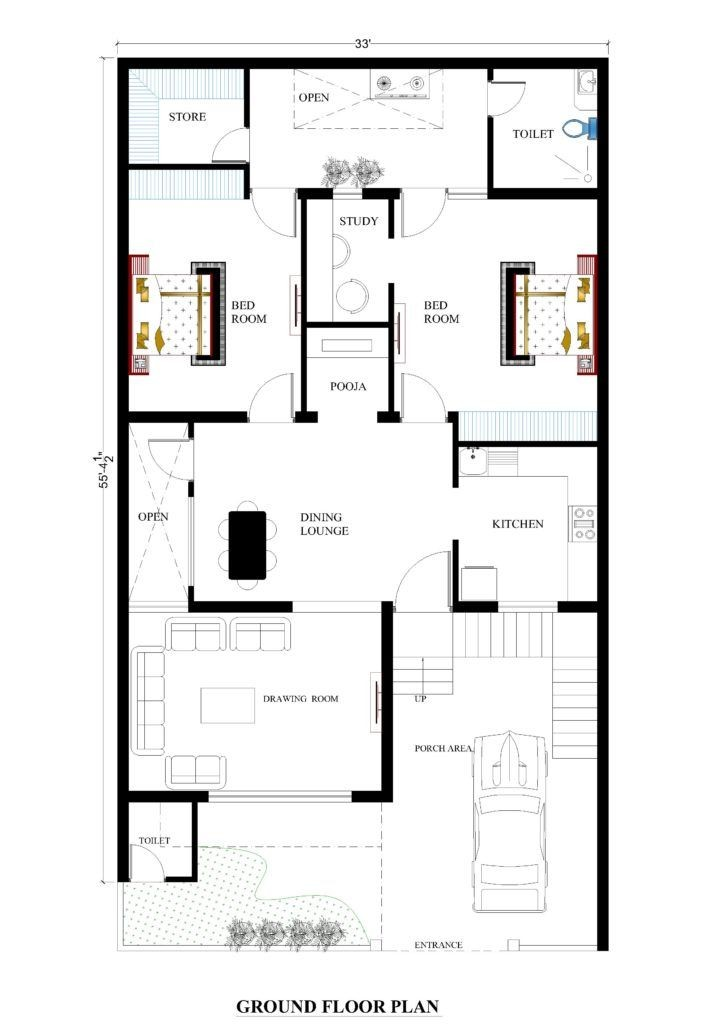door: (400, 530, 465, 605), (406, 166, 465, 242), (389, 364, 455, 424), (240, 375, 308, 430), (239, 192, 297, 252), (483, 77, 536, 125), (161, 432, 206, 477), (212, 121, 255, 163)
room: (117, 46, 619, 205), (392, 194, 617, 441), (130, 150, 311, 436), (434, 438, 620, 621)
wall: (101, 55, 133, 885), (595, 55, 623, 966), (131, 47, 615, 82), (292, 188, 315, 433), (375, 172, 397, 407), (131, 153, 267, 191), (447, 433, 608, 464), (380, 596, 403, 808), (470, 117, 511, 199), (475, 186, 598, 213), (136, 400, 245, 427), (234, 61, 253, 114)
